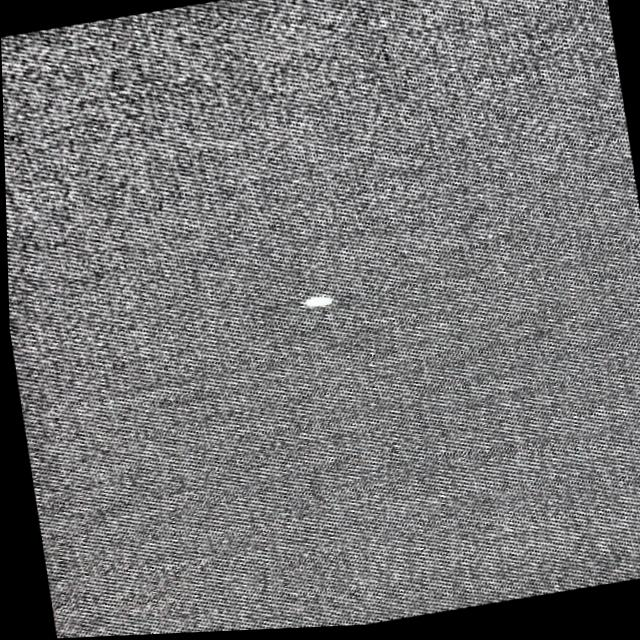Hole: (300, 299, 331, 310)
